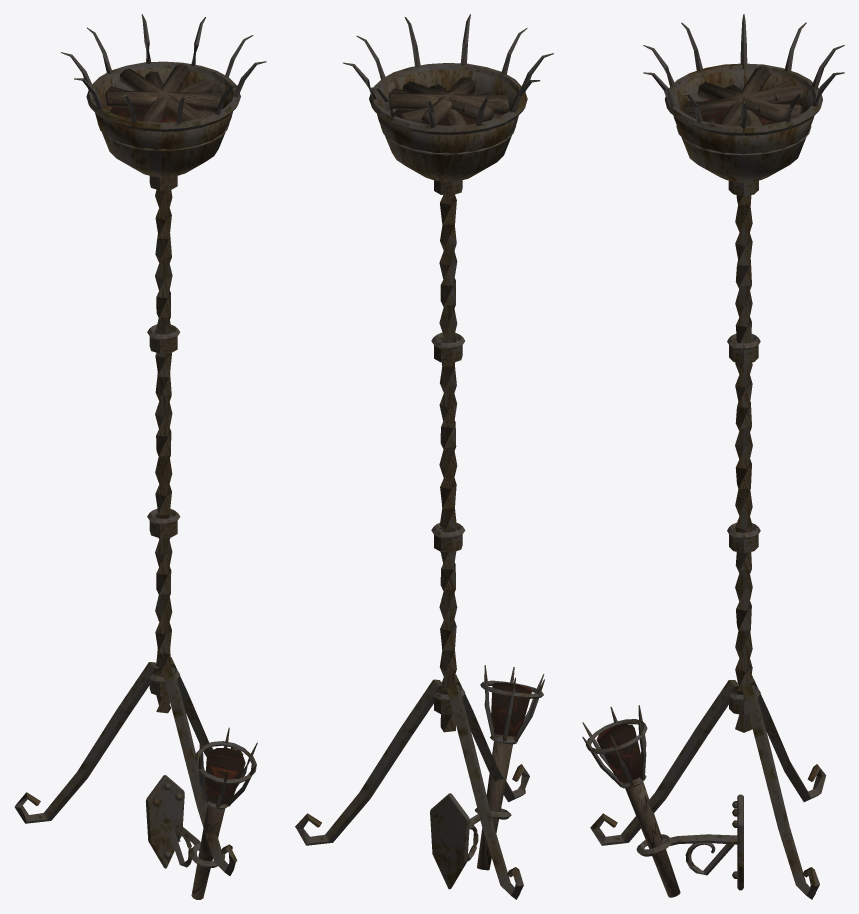
Rendered from torches.glb.
The picture shows the model from 3 angles, left to right: view 1: azimuth 30°, elevation 25°; view 2: azimuth 150°, elevation 25°; view 3: azimuth 270°, elevation 25°; orthographic projection. The views are drawn at different scales.
Parts seen in each view (by area): view 1: StandTorchMesh, WallTorchMesh; view 2: StandTorchMesh, WallTorchMesh; view 3: StandTorchMesh, WallTorchMesh.
Part boxes in pixels (x1,y1,x2,y2): StandTorchMesh: (14,14,266,875); WallTorchMesh: (145,727,257,899); StandTorchMesh: (295,14,553,899); WallTorchMesh: (430,665,544,889); StandTorchMesh: (590,14,844,899); WallTorchMesh: (582,705,743,897).
Size of the model in its own units: 0.8977 by 3.1 by 0.8799.
3 materials, 3 textured.
